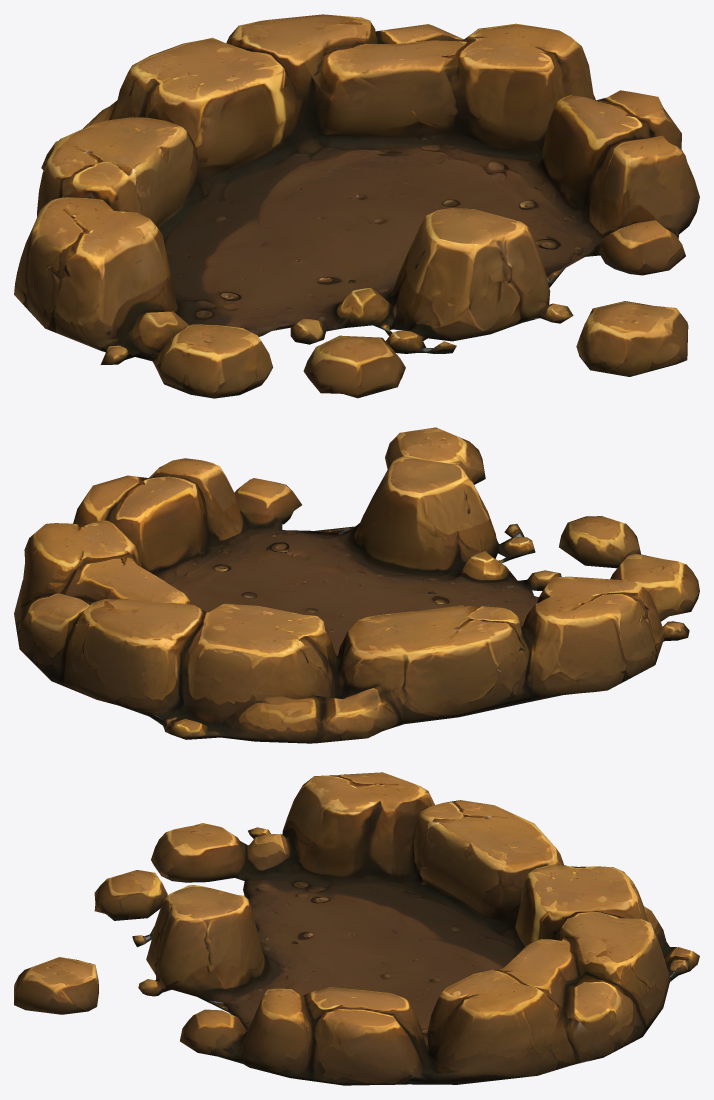
File: circulo_de_rocas.fbx
3 renders of one model, top to bottom at view 1: azimuth 30°, elevation 25°; view 2: azimuth 150°, elevation 25°; view 3: azimuth 270°, elevation 25°, orthographic. The views are drawn at different scales.
Parts seen in each view (by area): view 1: tripo_node_5841f371; view 2: tripo_node_5841f371; view 3: tripo_node_5841f371.
Boxes of the visible parts, x1,y1,x2,y2 form: tripo_node_5841f371: [14, 14, 699, 398]; tripo_node_5841f371: [14, 427, 699, 743]; tripo_node_5841f371: [14, 772, 699, 1085].
Size of the model in its own units: 88.34 by 11.08 by 98.6.
1 material, 1 textured.
